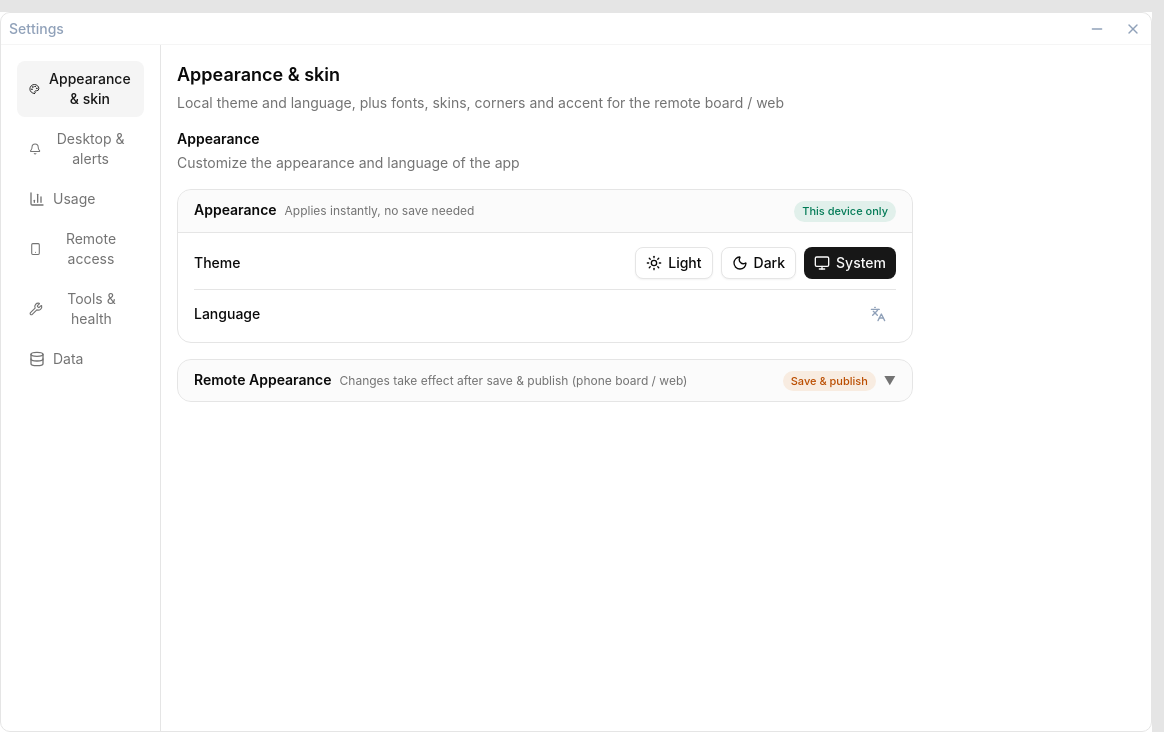
Test: 设置页「用量统计」分组（计划② Task 14） › 1. 设置页接线：菜单进入分区，8 项设置全部在场且不掺 ① 的采集验收面
Click the button with test id "settings-nav-usage": point(80, 199) [17,181,144,217]
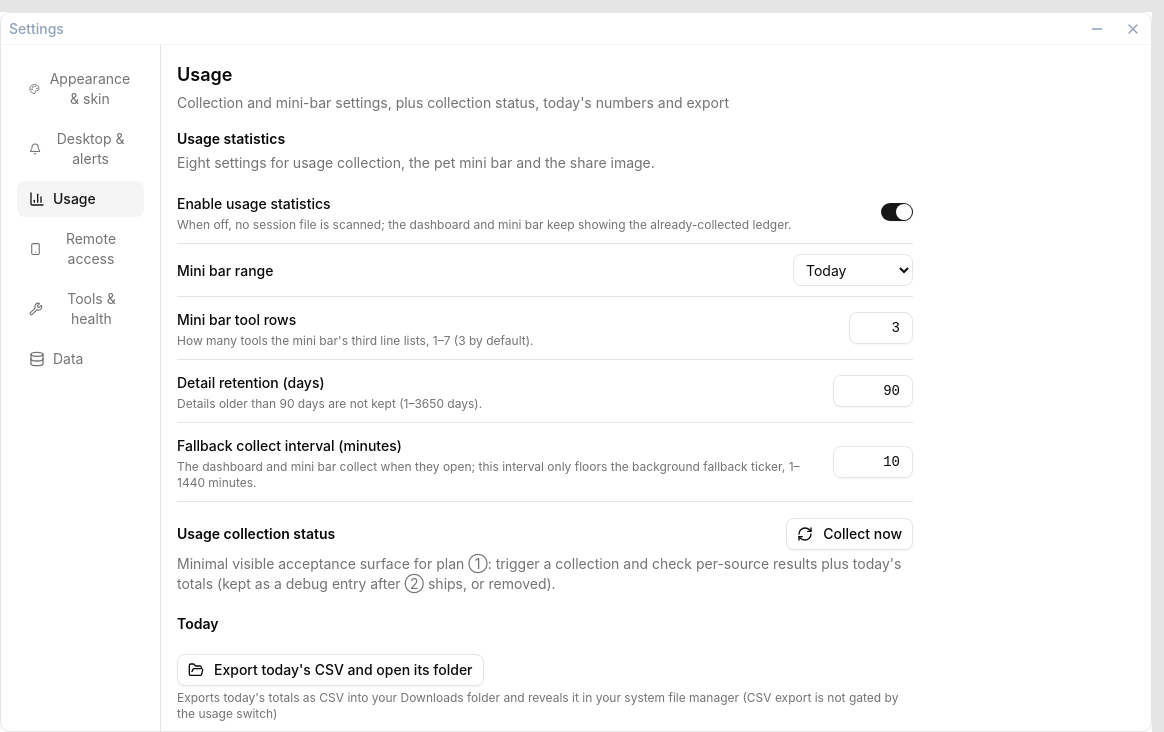
expect the switch with test id "usage-enabled" is shown: met, box [881,203,913,221]
expect the text "Enable usage statistics" is shown: met, box [177,195,331,212]
expect the text "Mini bar range" is shown: met, box [177,262,274,279]
